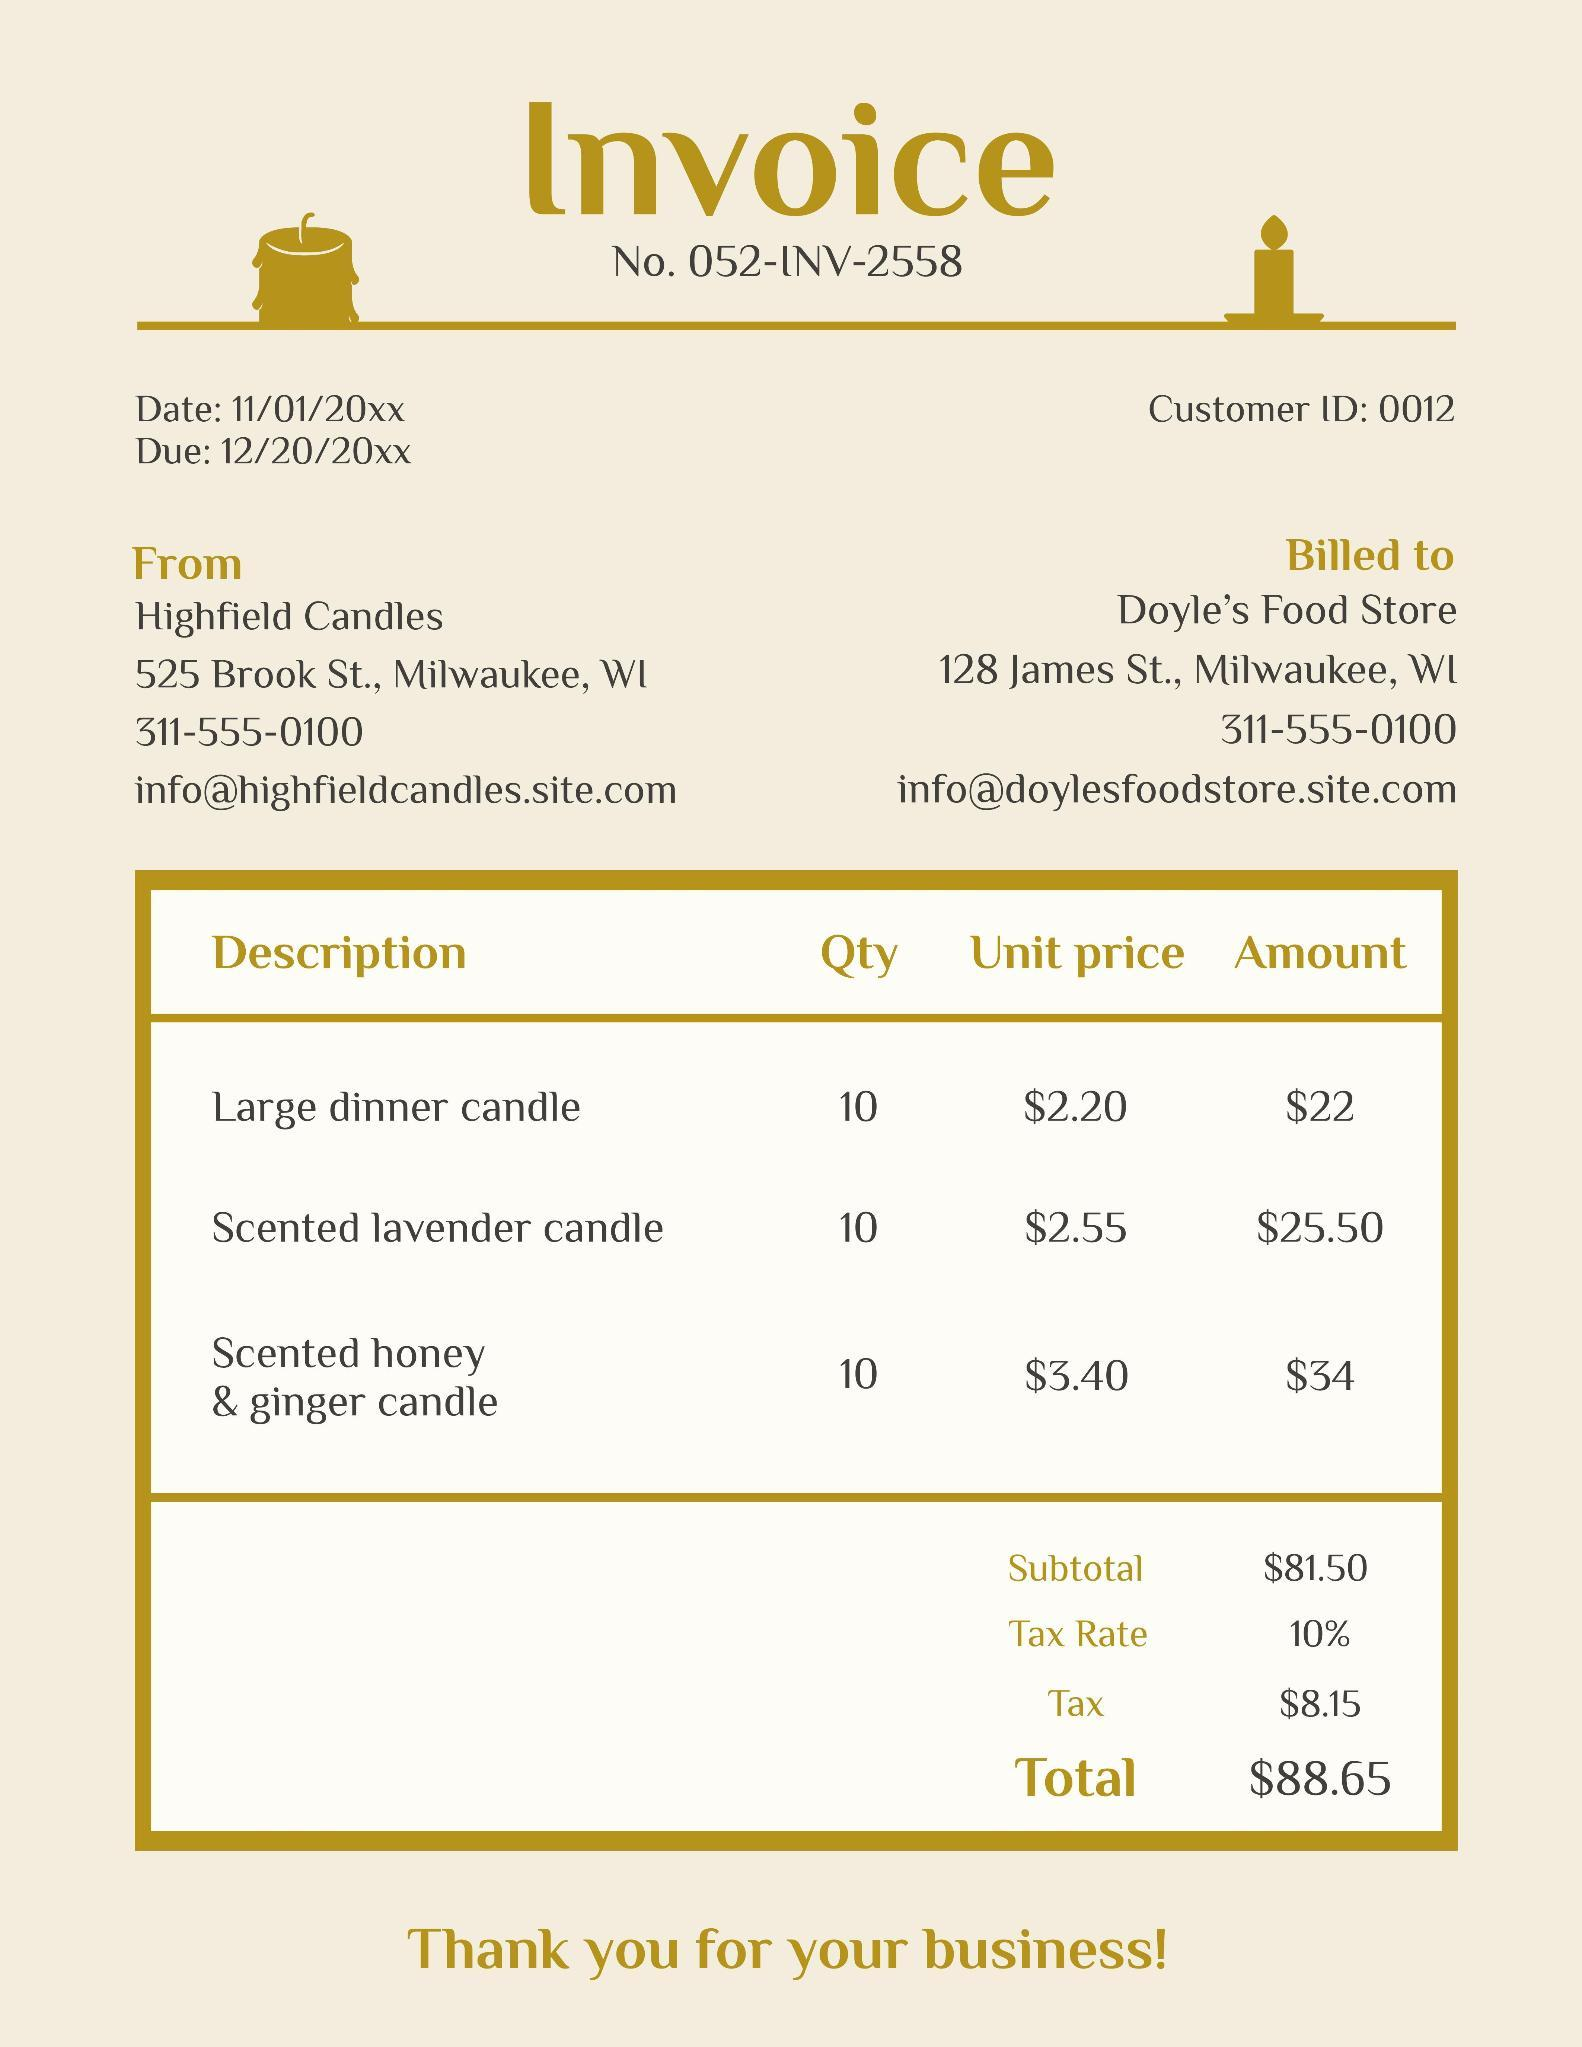ROI: (168, 907, 1421, 1477), (876, 530, 1481, 826), (110, 527, 710, 816), (980, 1529, 1426, 1818), (508, 86, 1049, 218), (400, 1916, 1195, 1987), (110, 379, 449, 484), (612, 239, 989, 296), (1112, 389, 1471, 444)
